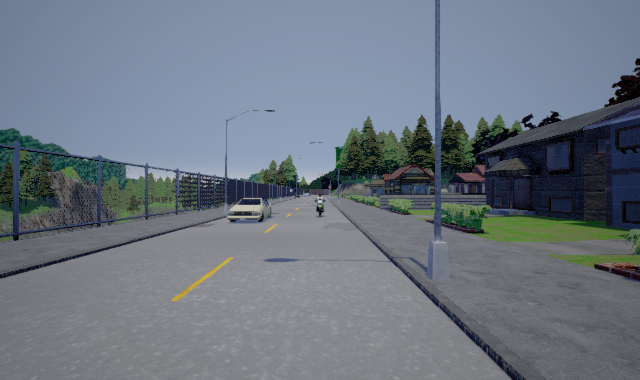motobike: (314, 194, 326, 219)
vehicle: (227, 198, 272, 222)
